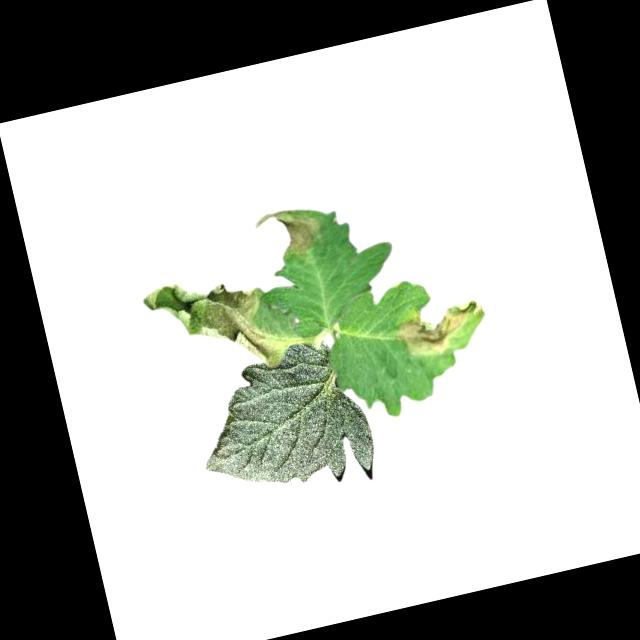Late_blight: (139, 253, 319, 395), (390, 297, 494, 367), (250, 202, 325, 262)
